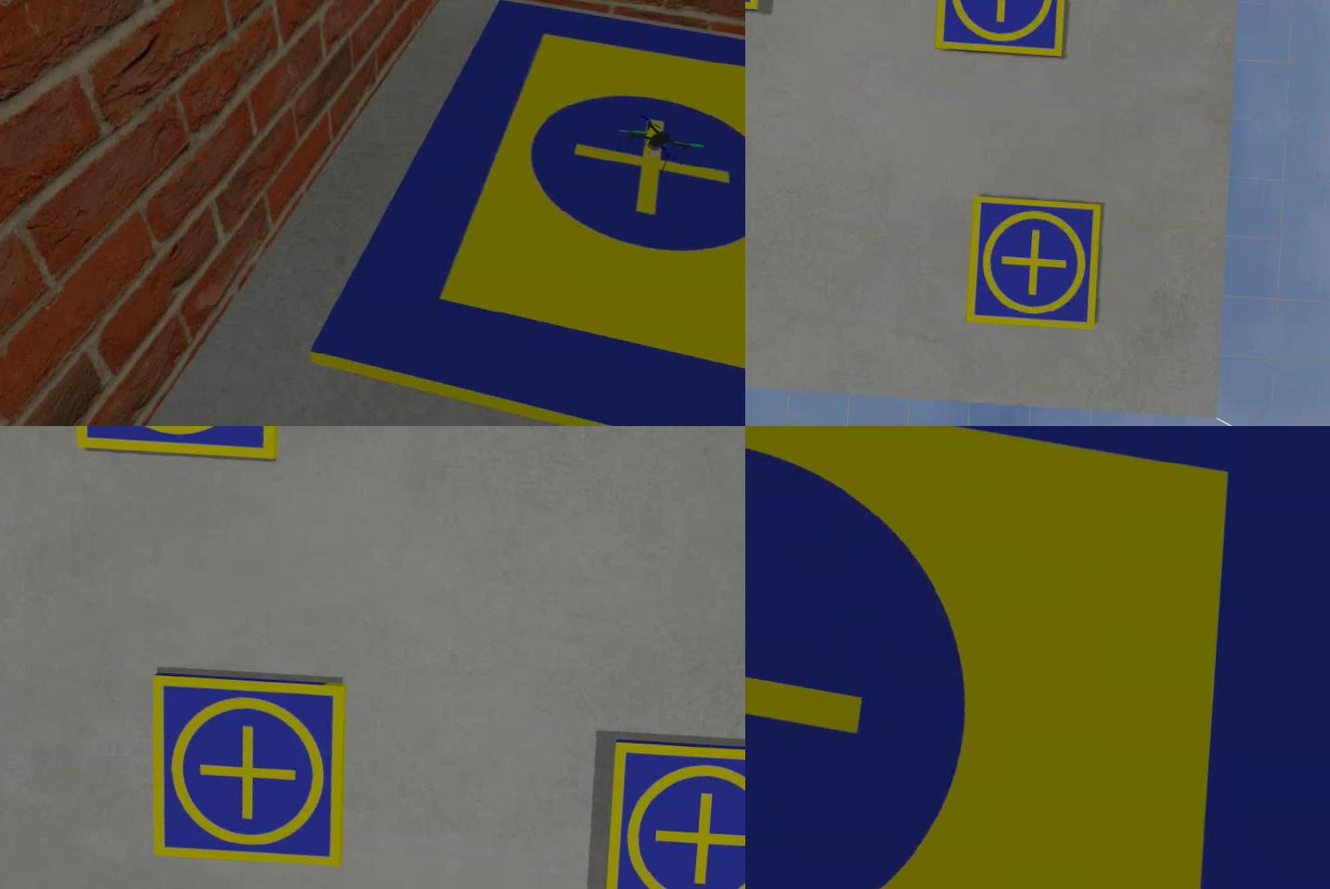large_base: (744, 426, 1328, 889), (291, 1, 744, 426)
small_base: (138, 670, 353, 875), (599, 740, 744, 889), (958, 196, 1100, 330), (933, 1, 1067, 61)
